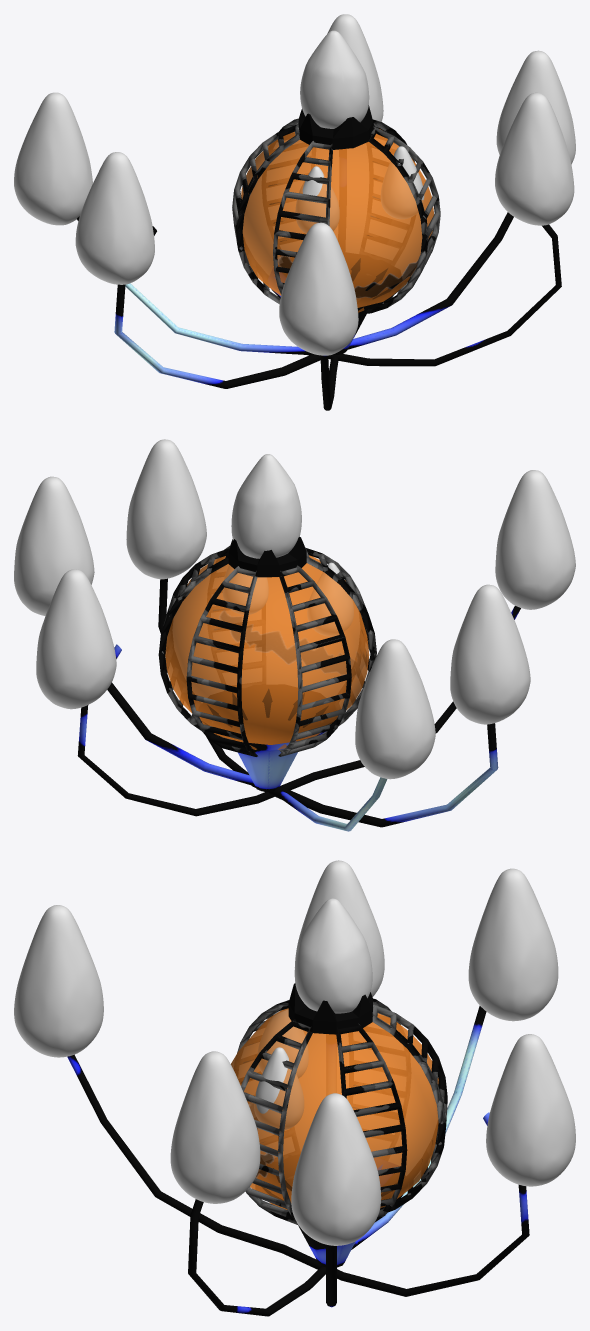
The model's file is Chandelure.fbx.
3 renders of one model, top to bottom at view 1: azimuth 30°, elevation 25°; view 2: azimuth 150°, elevation 25°; view 3: azimuth 270°, elevation 25°, orthographic. The views are drawn at different scales.
Visible parts, largest first — view 1: Base, Base.001, Frame, BlueFlame.001, BlueFlame.006, BlueFlame.002, BlueFlame.003, OrangeFlameHead, BlueFlame.005, OrangeFlameEyes, HeadBase, BlueFlame.004; view 2: Base, Frame, Base.001, BlueFlame.006, BlueFlame.002, BlueFlame.003, BlueFlame.004, BlueFlame.001, BlueFlame.005, OrangeFlameHead, OrangeFlameEyes, HeadBase; view 3: Base, Frame, Base.001, BlueFlame.003, BlueFlame.006, BlueFlame.001, BlueFlame.004, BlueFlame.005, OrangeFlameHead, OrangeFlameEyes, BlueFlame.002, HeadBase.
Part boxes in pixels (x1,y1,x2,y2): Base: (241, 129, 433, 312); Base.001: (77, 212, 561, 410); Frame: (232, 118, 440, 313); BlueFlame.001: (279, 222, 358, 355); BlueFlame.006: (495, 92, 574, 225); BlueFlame.002: (75, 152, 154, 284); BlueFlame.003: (14, 92, 92, 225); OrangeFlameHead: (300, 30, 369, 128); BlueFlame.005: (496, 50, 575, 164); OrangeFlameEyes: (295, 146, 424, 233); HeadBase: (298, 105, 373, 149); BlueFlame.004: (327, 14, 383, 121); Base: (165, 555, 369, 749); Frame: (158, 545, 376, 756); Base.001: (77, 578, 520, 831); BlueFlame.006: (126, 439, 206, 579); BlueFlame.002: (450, 584, 530, 724); BlueFlame.003: (355, 639, 435, 779); BlueFlame.004: (36, 569, 116, 709); BlueFlame.001: (495, 470, 575, 609); BlueFlame.005: (14, 476, 94, 616); OrangeFlameHead: (231, 454, 301, 558); OrangeFlameEyes: (223, 562, 353, 636); HeadBase: (228, 536, 306, 577); Base: (231, 1008, 438, 1209); Frame: (237, 998, 447, 1225); Base.001: (67, 1006, 529, 1316); BlueFlame.003: (468, 868, 558, 1021); BlueFlame.006: (170, 1051, 260, 1203); BlueFlame.001: (14, 905, 103, 1057); BlueFlame.004: (486, 1034, 575, 1186); BlueFlame.005: (291, 1093, 381, 1245); OrangeFlameHead: (294, 898, 372, 1013); OrangeFlameEyes: (254, 1009, 308, 1129); BlueFlame.002: (294, 860, 384, 996); HeadBase: (288, 983, 372, 1034).
Bounding box in the file's own units: 550 × 357 × 482.
10 materials, 4 textured.
